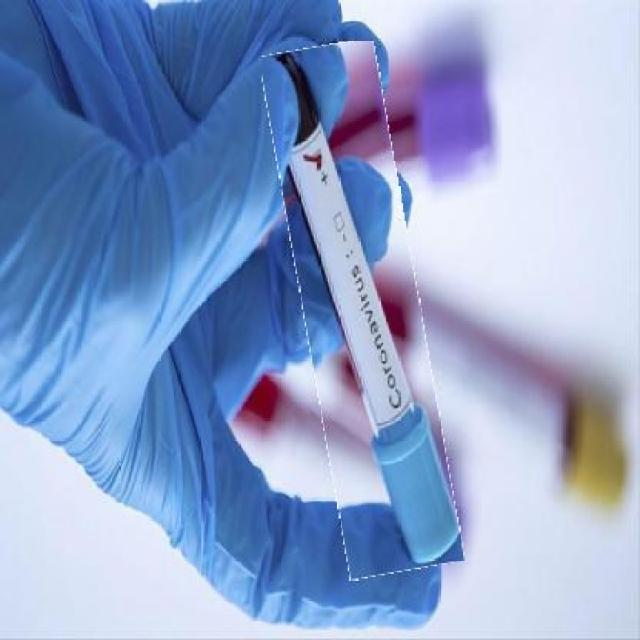Experimental-tube: (282, 41, 442, 576)
